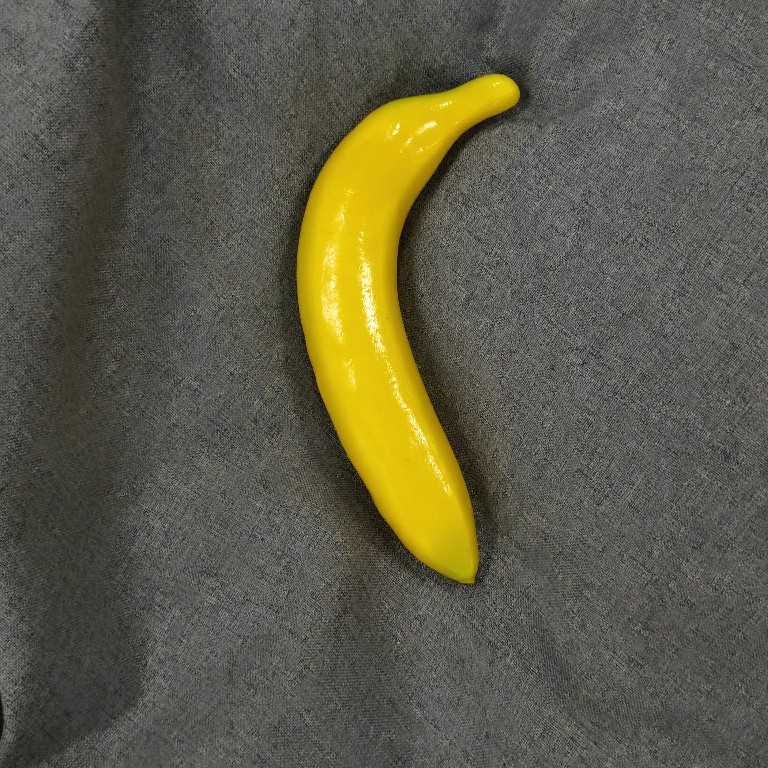fruit_banana: (282, 69, 532, 589)
